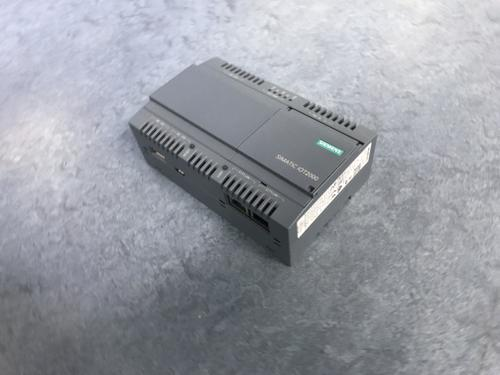device: (127, 58, 379, 267)
